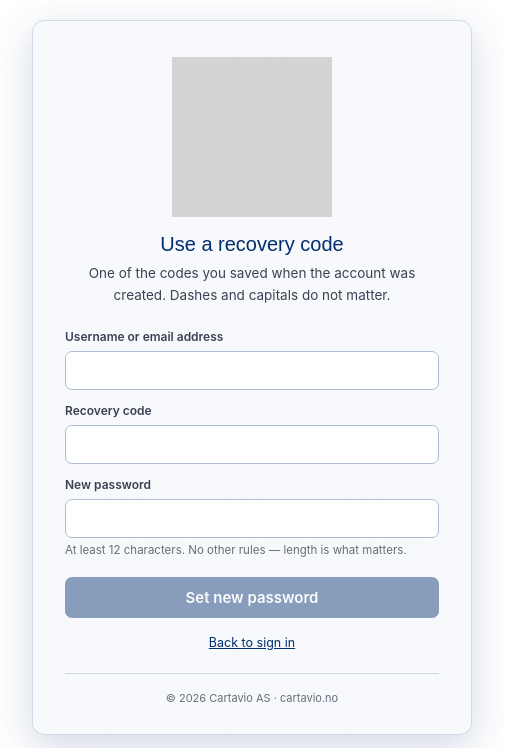
Test: <RecoverScreen> › still confirms the change when the server sends no replacement set
Type "kari" into the field labelled "Username or email address". click: point(252, 371)
box: [65,351,439,390]
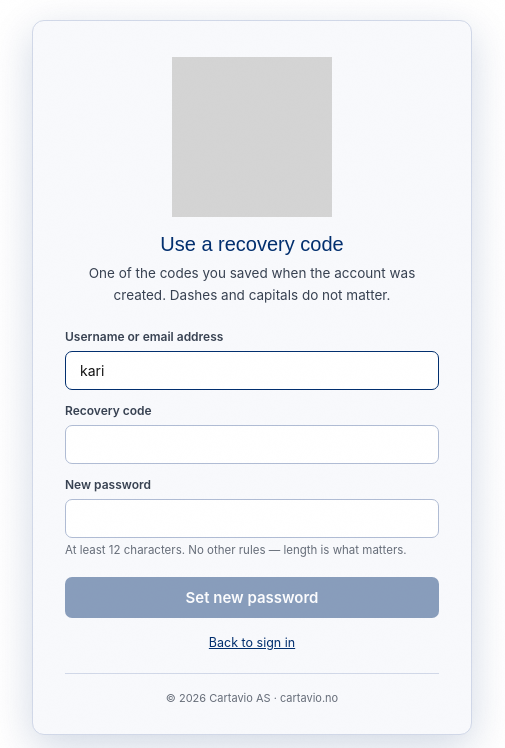
Type "aaaaa bbbbb" into the field labelled "Recovery code". click: point(252, 445)
box: [65,425,439,464]
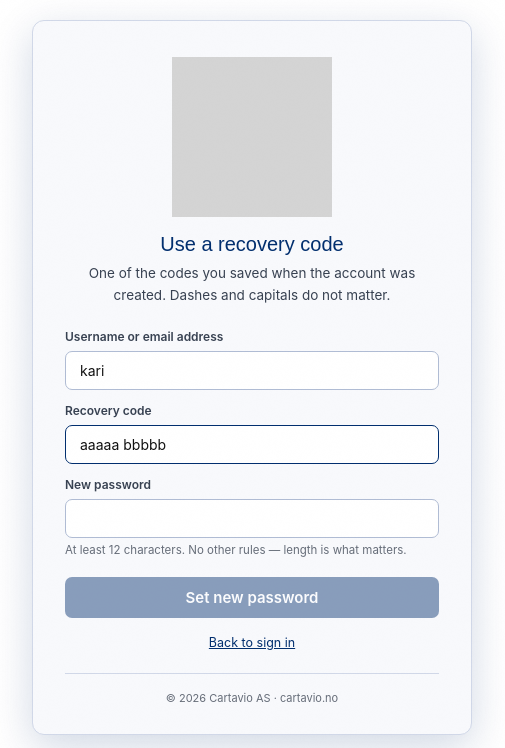
Type "correct-horse-battery" into the password field labelled "New password". click: point(252, 519)
box: [65,499,439,538]
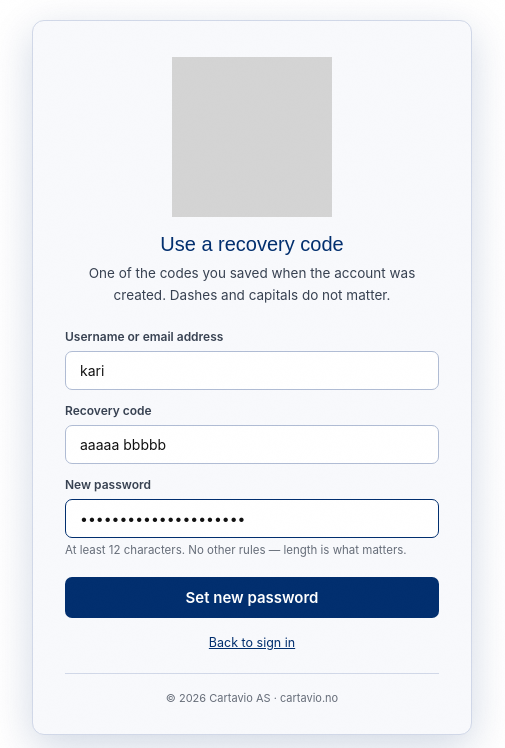
Click the button "Set new password". click: point(252, 597)
box: [65,577,439,618]
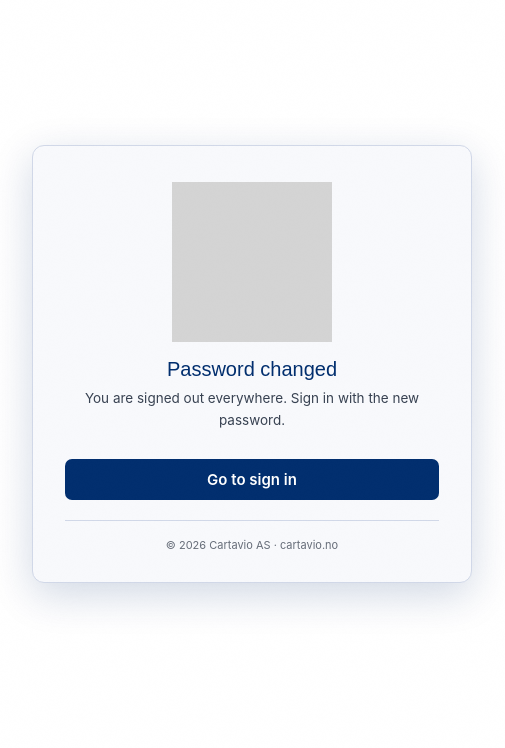
Check: the text "Sign in with the new password" is shown, box [85,390,419,428]
Check: the button "Go to sign in" is shown, box [65,459,439,500]
